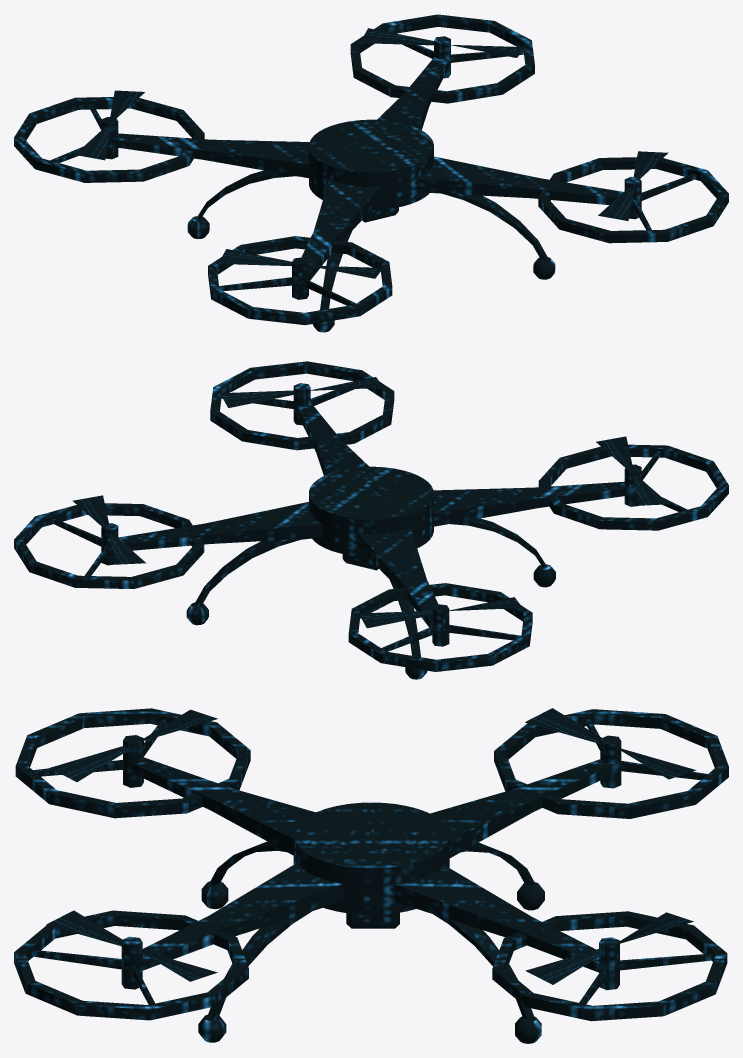
File: Drone.FBX
3 renders of one model, top to bottom at view 1: azimuth 30°, elevation 25°; view 2: azimuth 150°, elevation 25°; view 3: azimuth 270°, elevation 25°, orthographic. The views are drawn at different scales.
Parts seen in each view (by area): view 1: Drone, Rotor1, Rotor3, Rotor4, Rotor2; view 2: Drone, Rotor2, Rotor4, Rotor1, Rotor3; view 3: Drone, Rotor1, Rotor3, Rotor2, Rotor4.
Boxes of the visible parts, bbox=[...] form: Drone: bbox=[14, 14, 728, 332]; Rotor1: bbox=[360, 28, 524, 57]; Rotor3: bbox=[218, 249, 382, 278]; Rotor4: bbox=[75, 90, 144, 160]; Rotor2: bbox=[598, 151, 668, 220]; Drone: bbox=[14, 361, 728, 679]; Rotor2: bbox=[220, 377, 383, 407]; Rotor4: bbox=[359, 597, 522, 628]; Rotor1: bbox=[72, 495, 146, 564]; Rotor3: bbox=[596, 436, 669, 505]; Drone: bbox=[14, 708, 728, 1043]; Rotor1: bbox=[525, 912, 693, 984]; Rotor3: bbox=[49, 709, 217, 781]; Rotor2: bbox=[46, 910, 217, 981]; Rotor4: bbox=[525, 708, 696, 779].
Bounding box in the file's own units: 84.56 × 18.27 × 84.56.
1 material, 1 textured.
